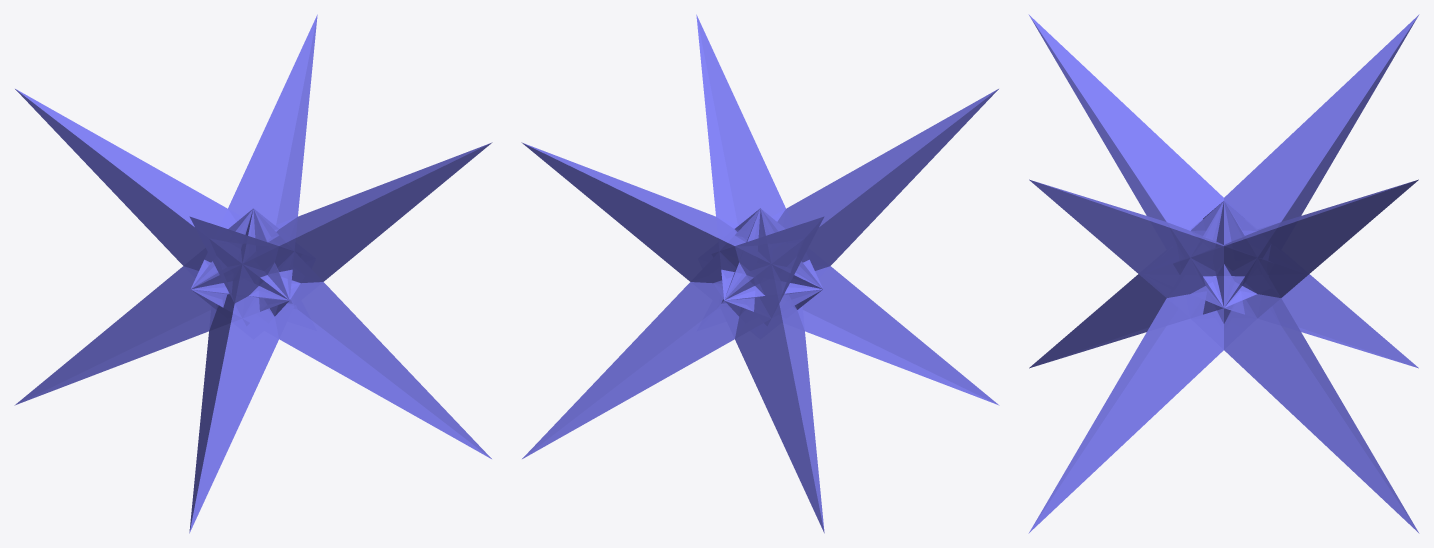
Rendered from GreatTriakisOctahedron.obj.
3 renders of one model, left to right at view 1: azimuth 30°, elevation 25°; view 2: azimuth 150°, elevation 25°; view 3: azimuth 270°, elevation 25°, orthographic. The views are drawn at different scales.
Bounding box in the file's own units: 2 × 2 × 2.
